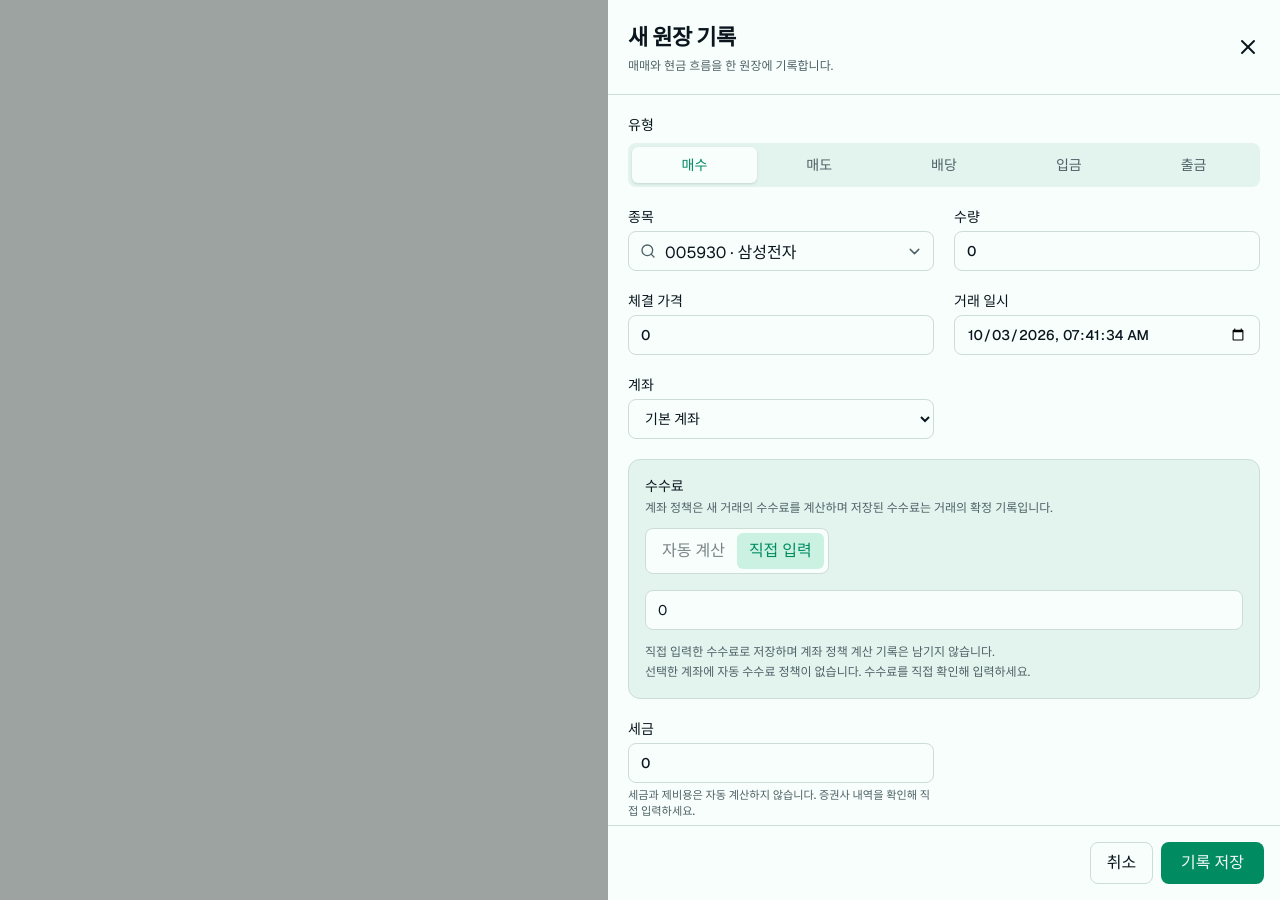
Test: TradeForm › 원화 현금에서 달러 현금으로 바꾸면 기본 환율을 적용한다
The width and height of the screenshot is (1280, 900).
Click the button "입금" at (1069, 165), box [1006,147,1131,183]
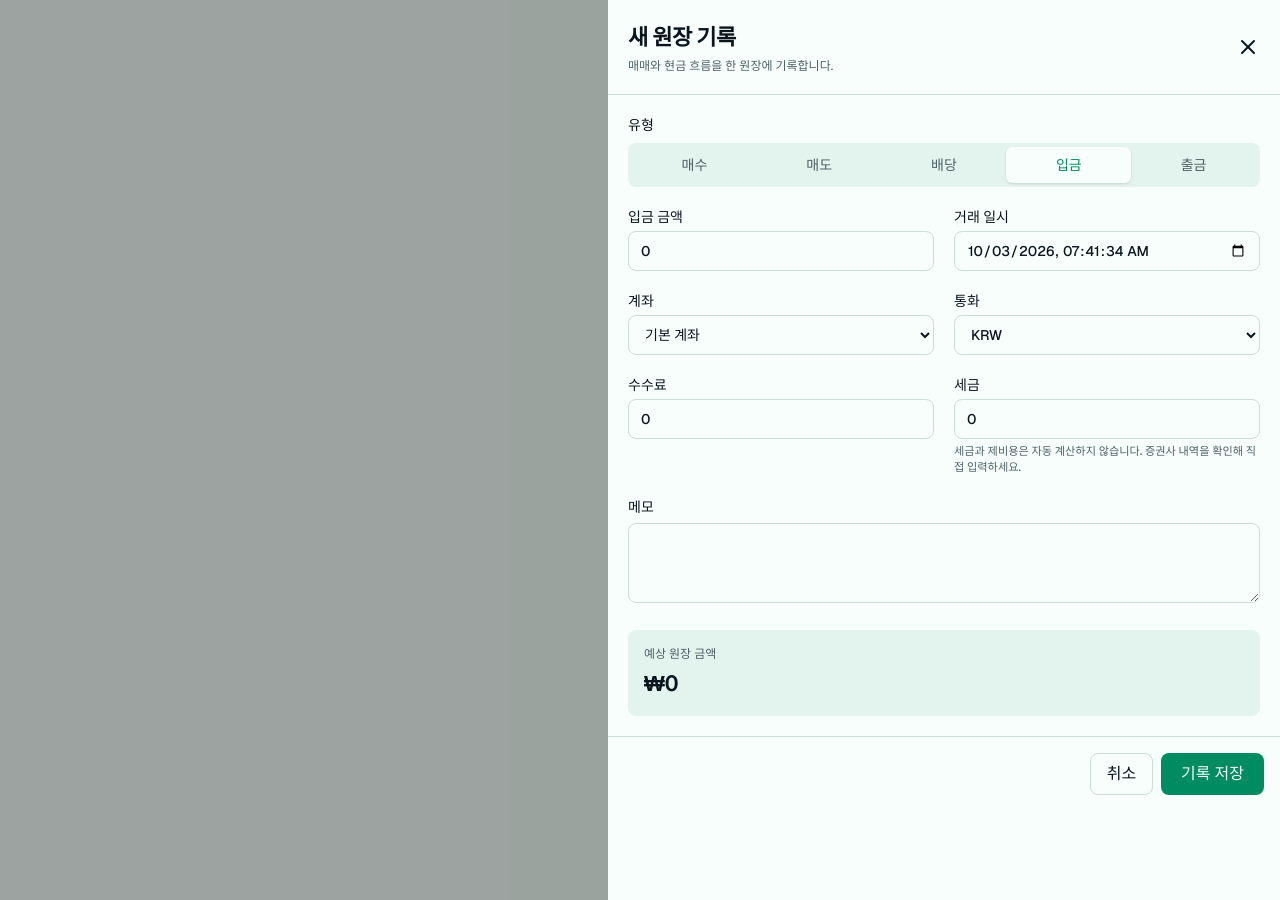
Select "USD" in the dropdown labelled "통화" at (1107, 335), box [954,315,1260,355]
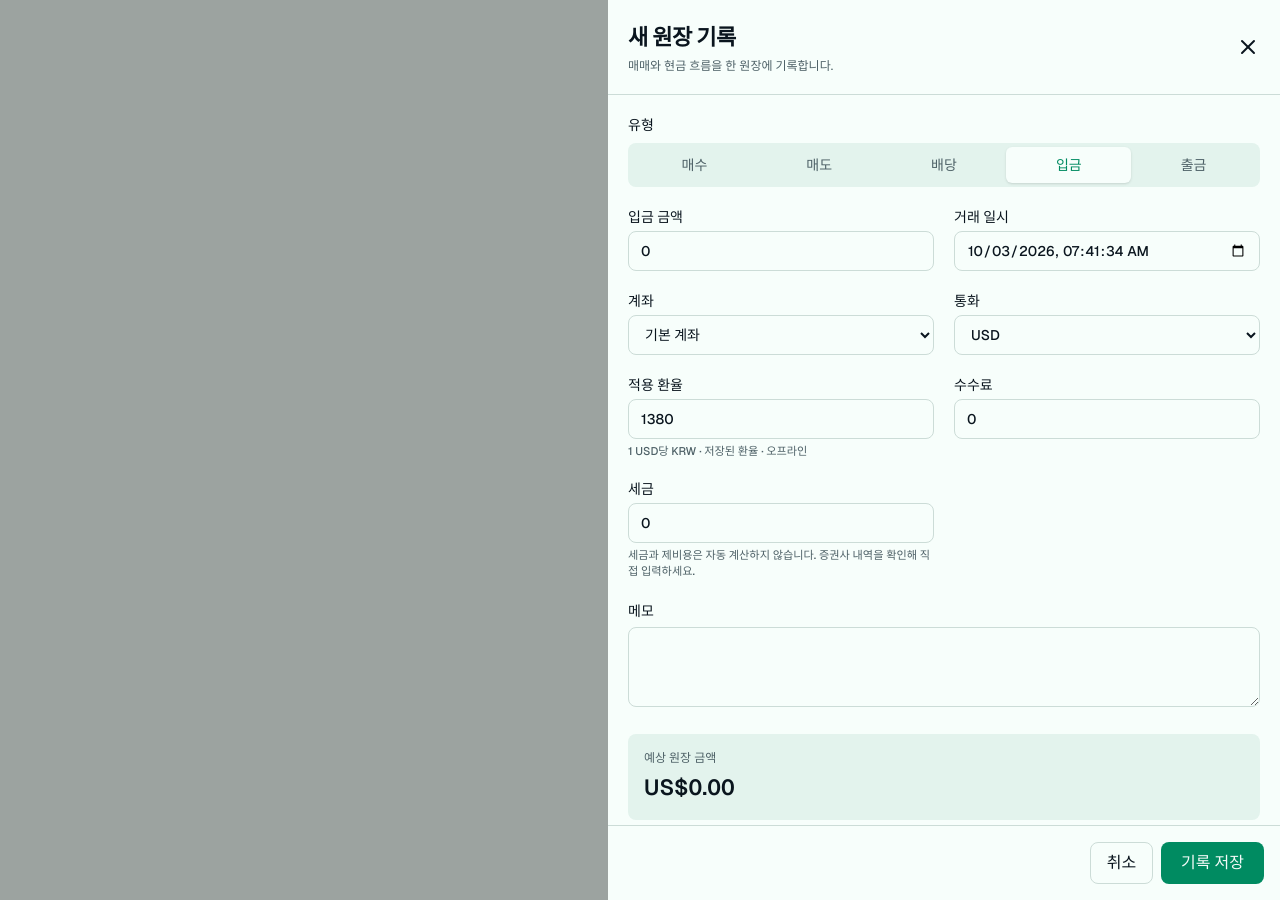
Check: the number field labelled "적용 환율" holds "1380", box [628,399,934,439]
